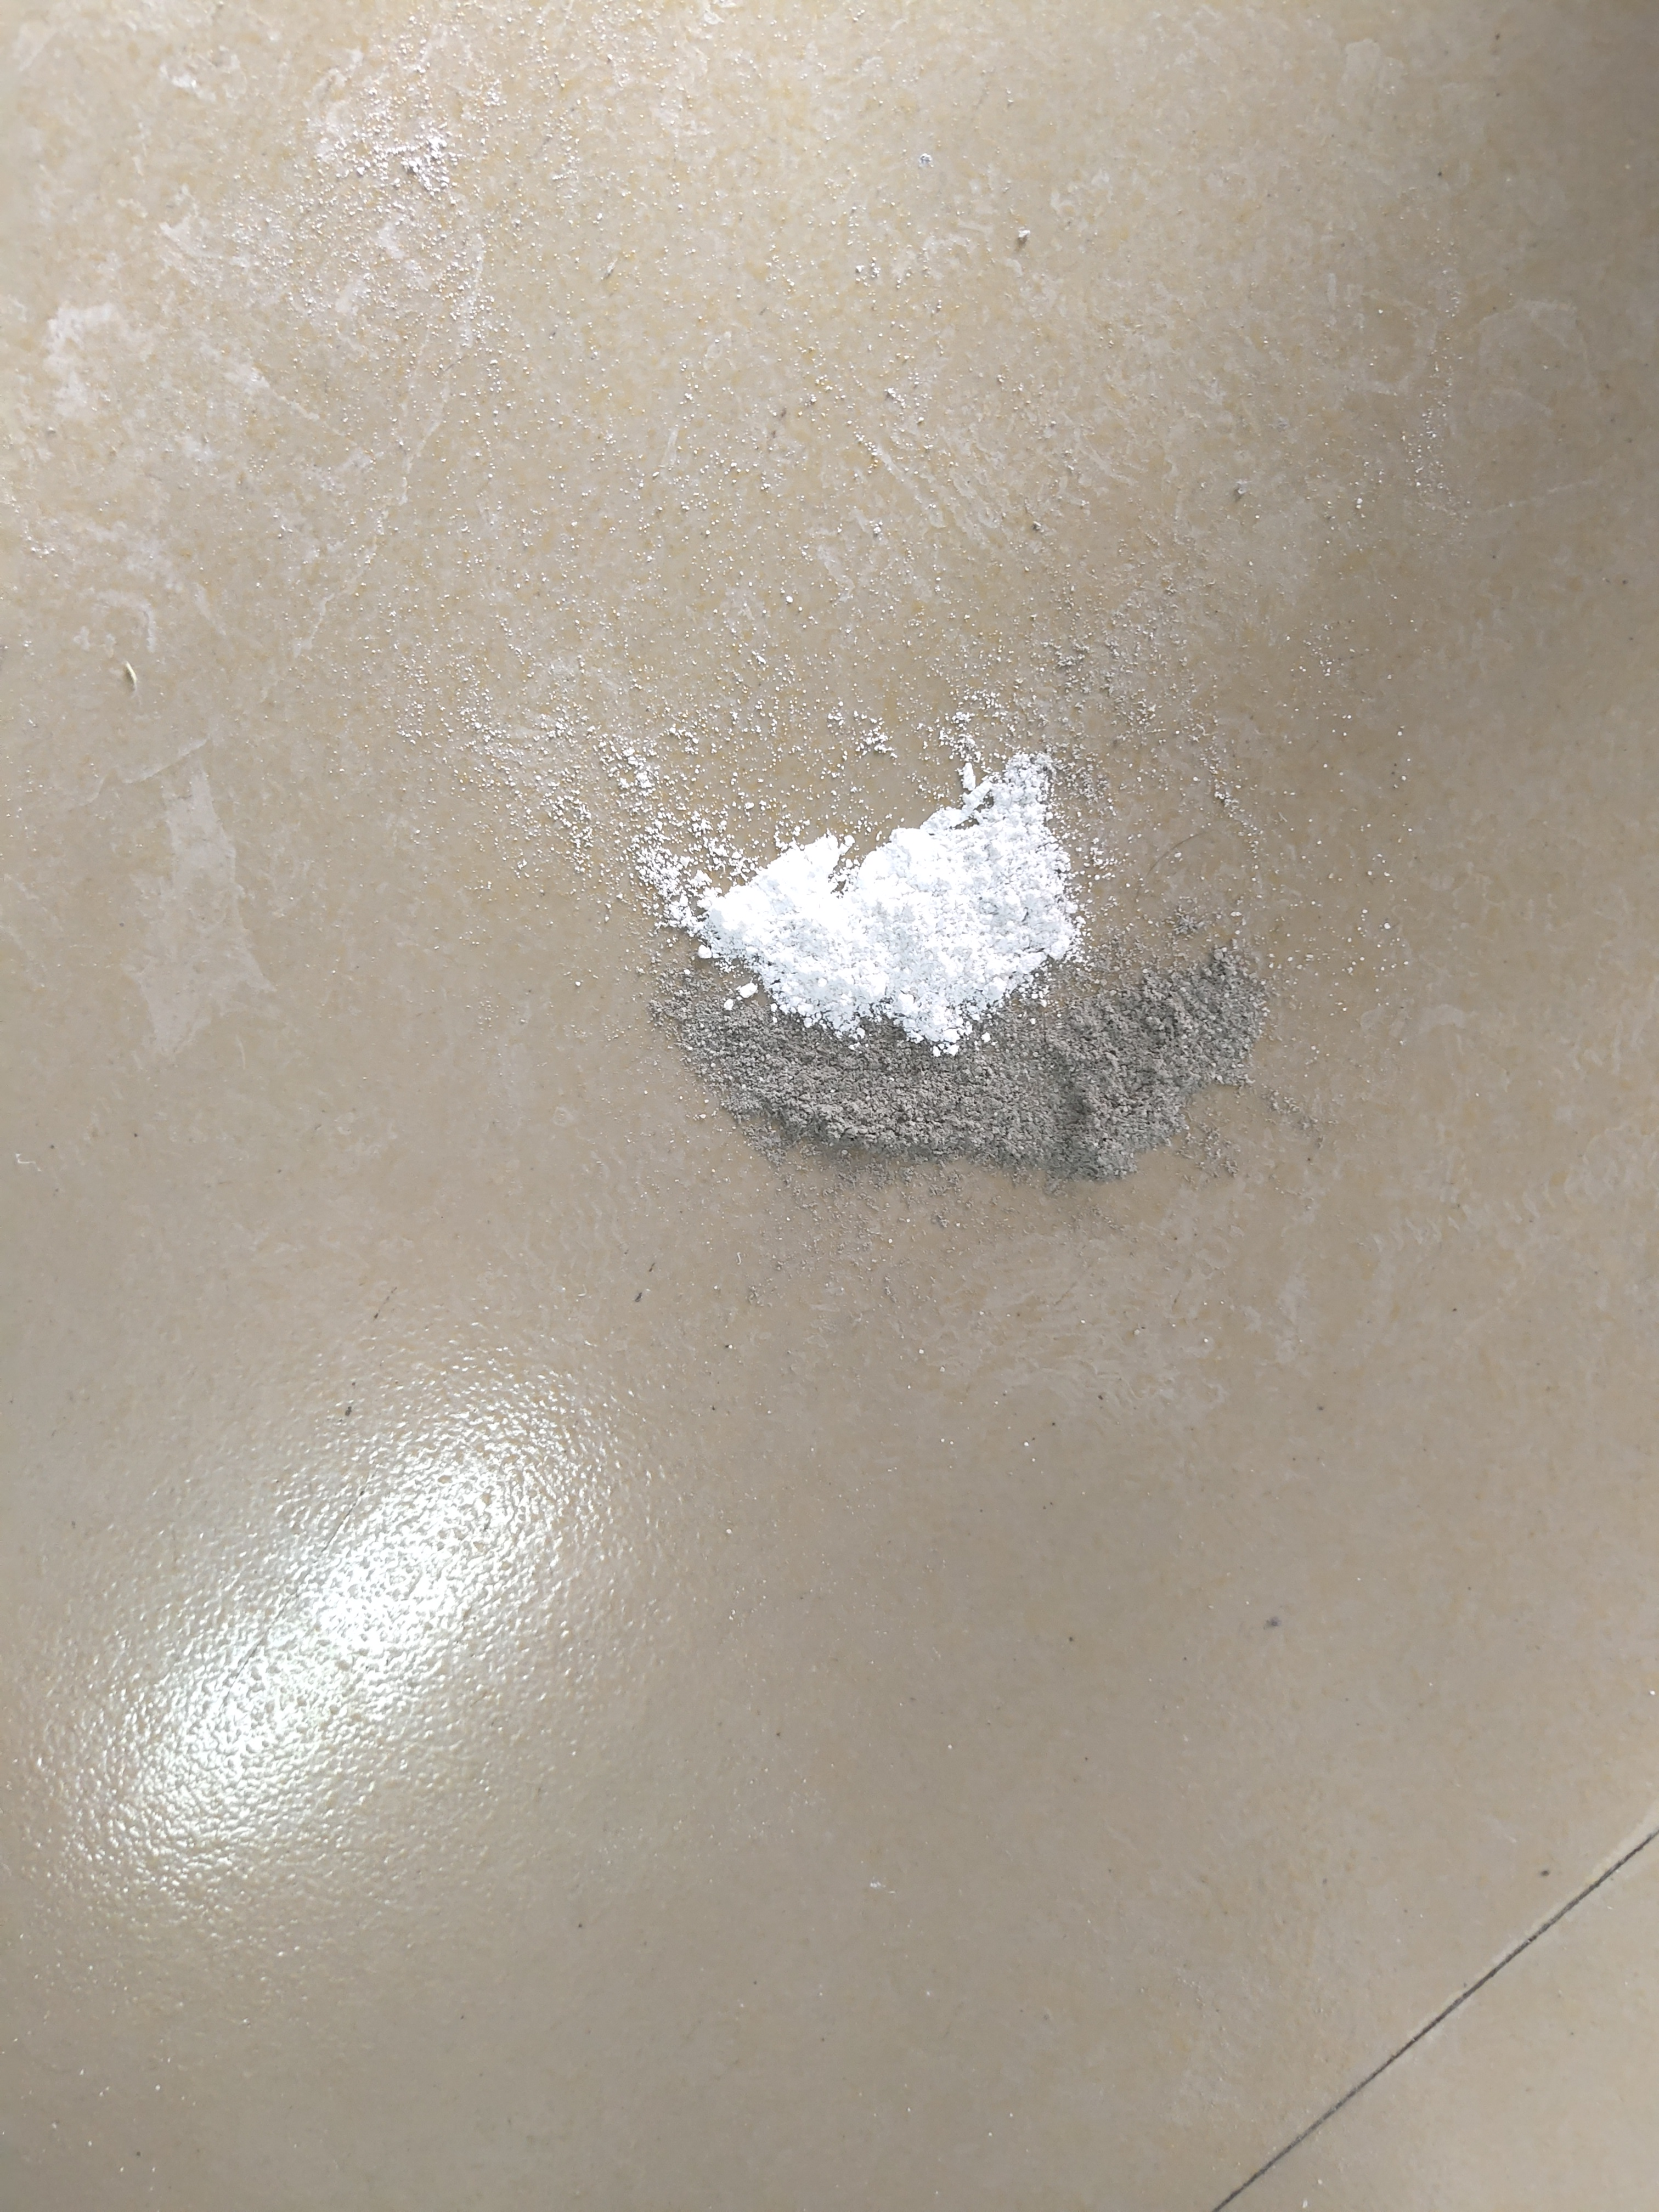ash pile: (629, 742, 1262, 1188)
reflection: (87, 1371, 608, 1898)
